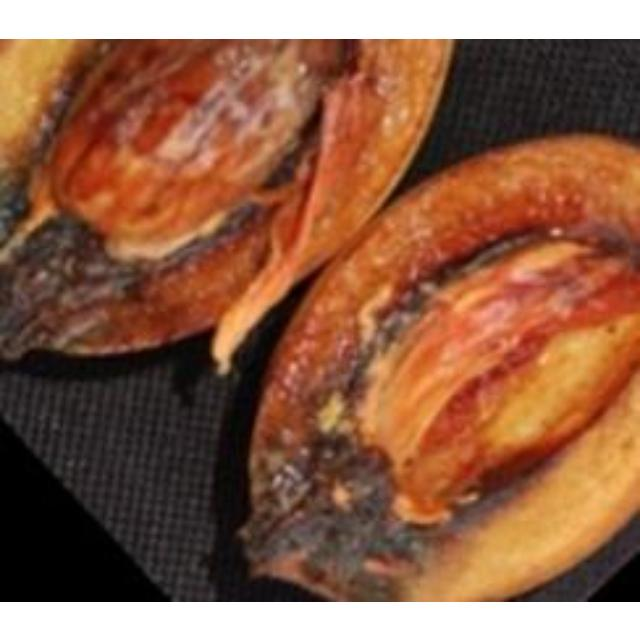damaged: (239, 132, 637, 599), (0, 38, 454, 371)
